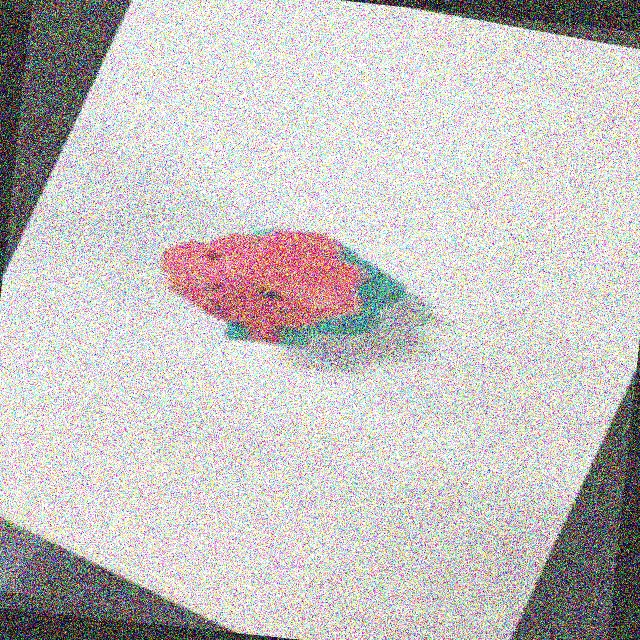House: (121, 201, 445, 374)
